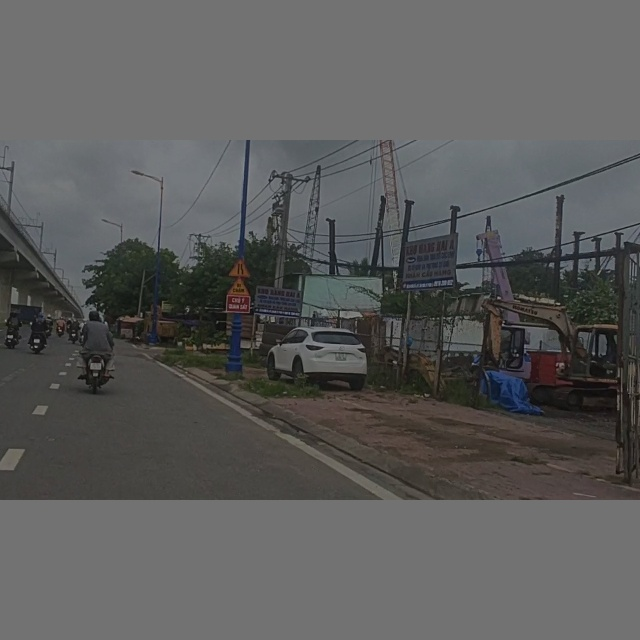W.203c: (229, 259, 251, 277)
W.245a: (227, 278, 250, 296)
